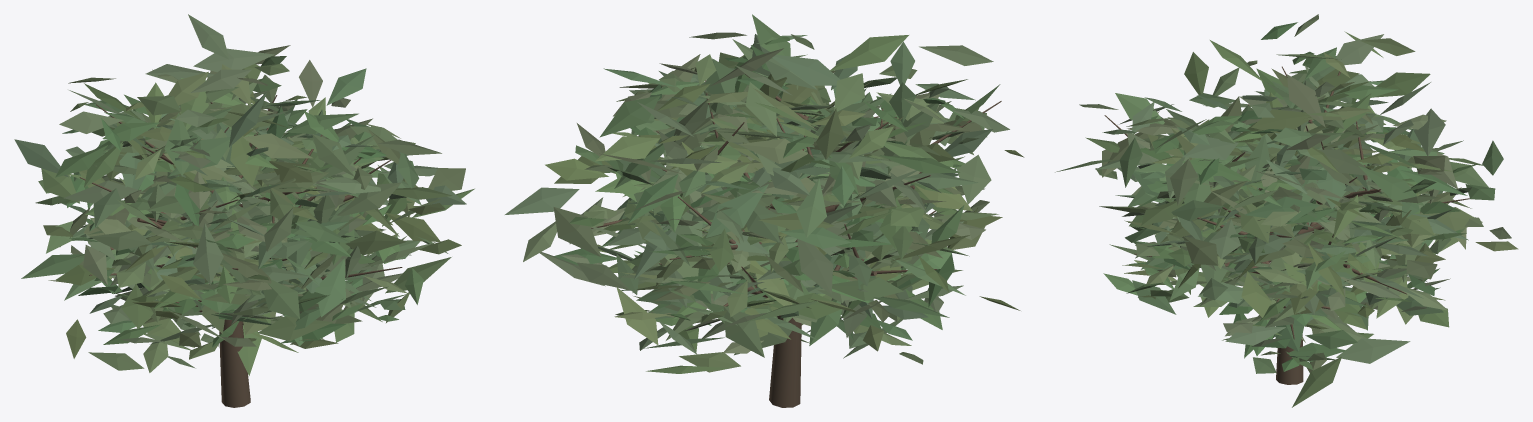
File: Bush1.glb
The picture shows the model from 3 angles, left to right: view 1: azimuth 30°, elevation 25°; view 2: azimuth 150°, elevation 25°; view 3: azimuth 270°, elevation 25°; orthographic projection. The views are drawn at different scales.
Bounding box in the file's own units: 1.78 × 1.46 × 1.98.
